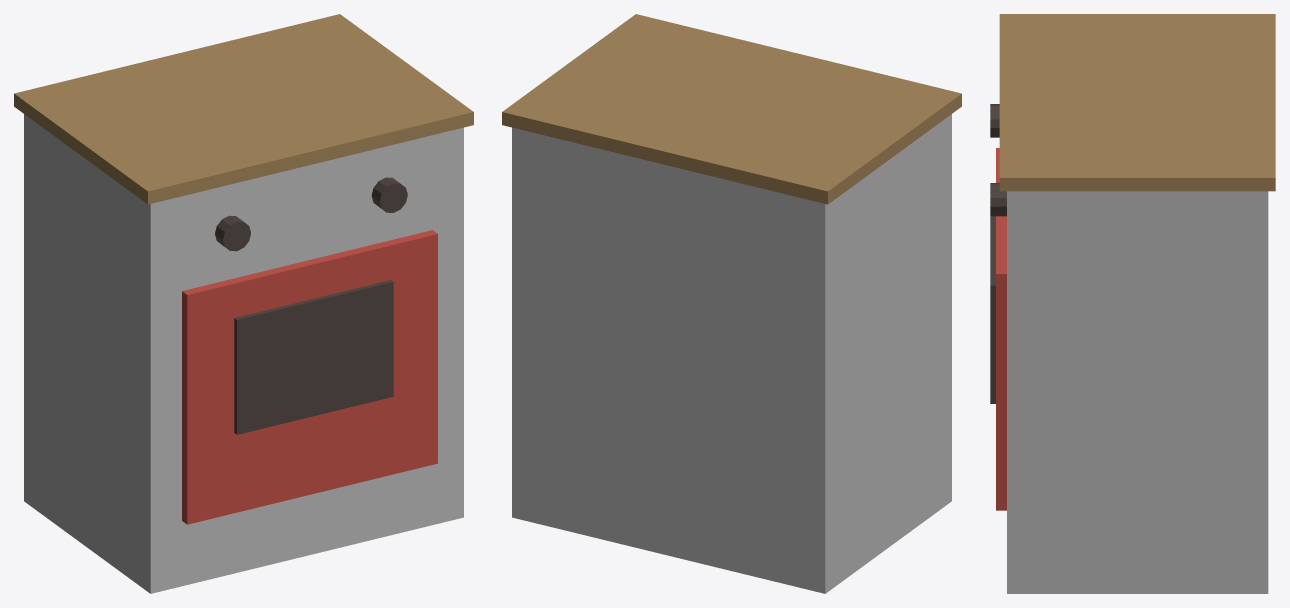
Rendered from oven.glb.
3 views of the same model, side by side, from view 1: azimuth 30°, elevation 25°; view 2: azimuth 150°, elevation 25°; view 3: azimuth 270°, elevation 25° (orthographic). The views are drawn at different scales.
Parts seen in each view (by area): view 1: OvenBody, OvenTop, OvenDoor, OvenWindow, OvenKnob.001, OvenKnob; view 2: OvenBody, OvenTop; view 3: OvenBody, OvenTop, OvenDoor, OvenWindow, OvenKnob.001.
Boxes of the visible parts, x1=… form: OvenBody: x1=24, y1=114, x2=463, y2=593; OvenTop: x1=14, y1=14, x2=473, y2=204; OvenDoor: x1=182, y1=230, x2=437, y2=524; OvenWindow: x1=234, y1=280, x2=393, y2=434; OvenKnob.001: x1=371, y1=177, x2=407, y2=212; OvenKnob: x1=215, y1=215, x2=250, y2=251; OvenBody: x1=512, y1=114, x2=951, y2=593; OvenTop: x1=502, y1=14, x2=961, y2=204; OvenBody: x1=1007, y1=191, x2=1268, y2=593; OvenTop: x1=999, y1=14, x2=1275, y2=191; OvenDoor: x1=996, y1=148, x2=1006, y2=510; OvenWindow: x1=990, y1=216, x2=995, y2=403; OvenKnob.001: x1=990, y1=183, x2=1006, y2=216.
Size of the model in its own units: 1.04 by 1.24 by 0.765.
